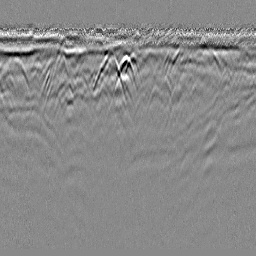cavity: (111, 51, 139, 96)
